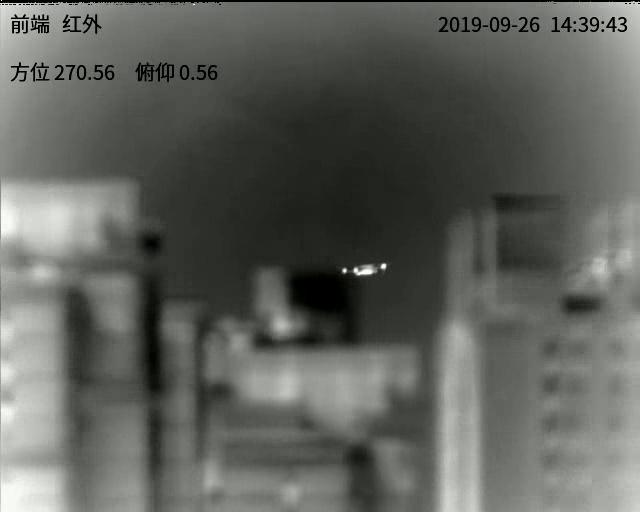DRONE: (338, 261, 390, 278)
